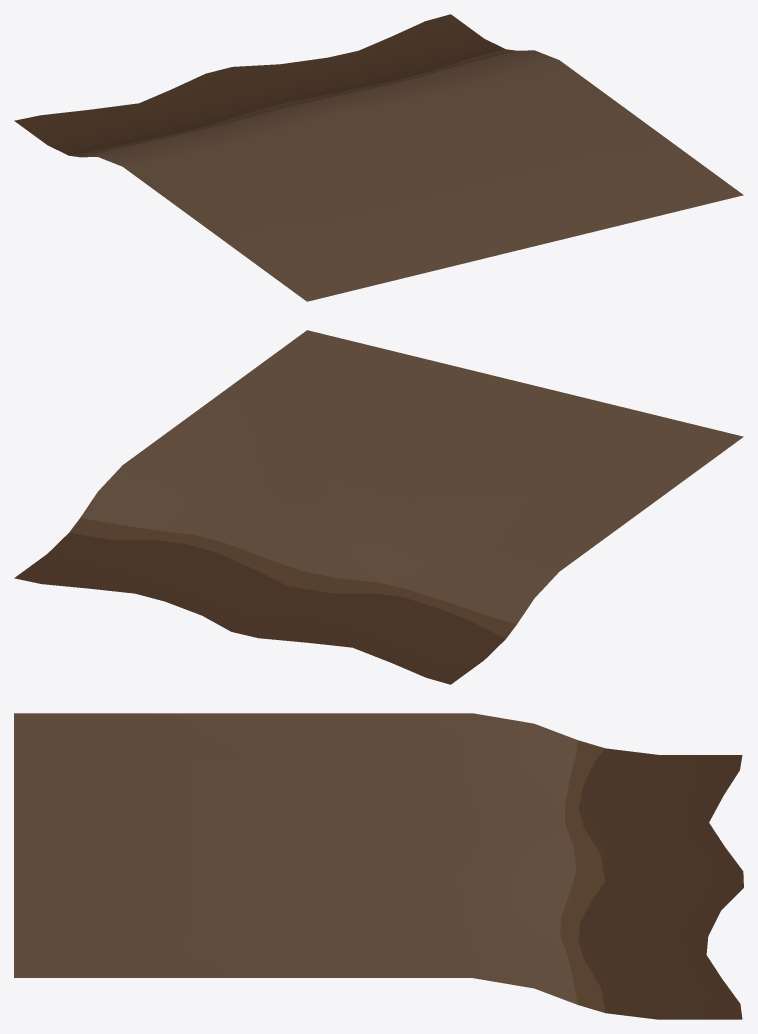
Rendered from 20C_ground_river02.fbx.
3 renders of one model, top to bottom at view 1: azimuth 30°, elevation 25°; view 2: azimuth 150°, elevation 25°; view 3: azimuth 270°, elevation 25°, orthographic. The views are drawn at different scales.
Visible parts, largest first — view 1: 20C_ground_river02; view 2: 20C_ground_river02; view 3: 20C_ground_river02.
Boxes of the visible parts, box(x1,y1,x2,y2) form: 20C_ground_river02: box(14, 14, 743, 301); 20C_ground_river02: box(14, 330, 743, 684); 20C_ground_river02: box(14, 713, 743, 1019).
Bounding box in the file's own units: 100 × 7.34 × 116.
